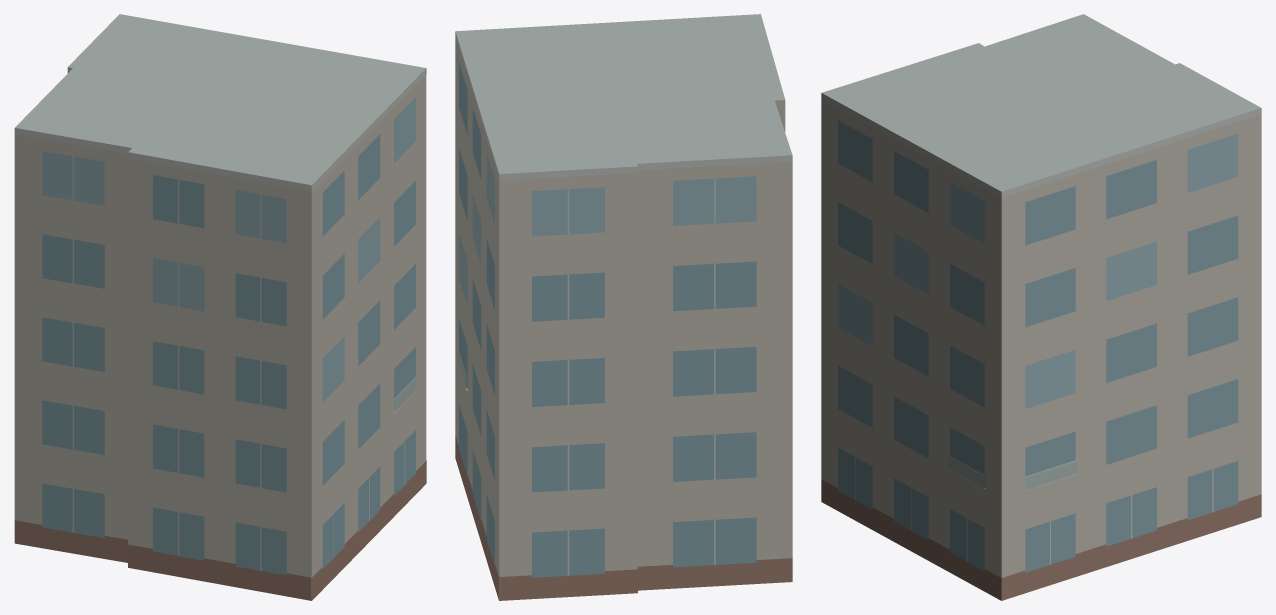
File: survey-upis-32584380.glb
3 renders of one model, left to right at view 1: azimuth 30°, elevation 25°; view 2: azimuth 150°, elevation 25°; view 3: azimuth 270°, elevation 25°, orthographic. The views are drawn at different scales.
Parts seen in each view (by area): view 1: survey-upis-32584380.tmp; view 2: survey-upis-32584380.tmp; view 3: survey-upis-32584380.tmp.
Part boxes in pixels (x1,y1,x2,y2): survey-upis-32584380.tmp: [14, 14, 426, 600]; survey-upis-32584380.tmp: [455, 14, 792, 600]; survey-upis-32584380.tmp: [821, 14, 1261, 600].
Size of the model in its own units: 14.61 by 15.67 by 15.28.
